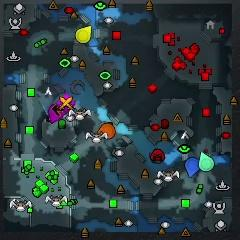Other: (58, 92, 75, 113)
p1: (185, 156, 199, 177)
p2: (199, 151, 214, 171)
p3: (48, 103, 63, 122)
p4: (75, 25, 91, 43)
p5: (99, 123, 115, 138)
x5Clone: (51, 103, 65, 115)
